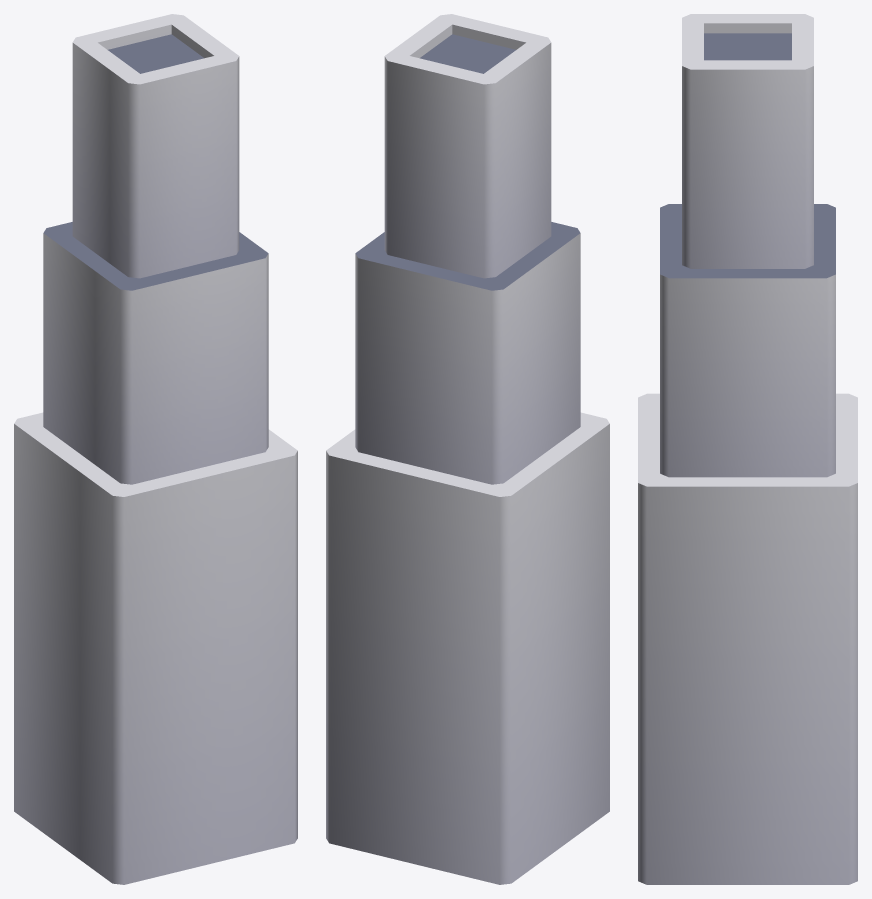
The model's file is low-detail-building-f.glb.
3 renders of one model, left to right at view 1: azimuth 30°, elevation 25°; view 2: azimuth 150°, elevation 25°; view 3: azimuth 270°, elevation 25°, orthographic. The views are drawn at different scales.
Visible parts, largest first — view 1: low-detail-building-f; view 2: low-detail-building-f; view 3: low-detail-building-f.
Boxes of the visible parts, x1=… form: low-detail-building-f: x1=14, y1=14, x2=297, y2=884; low-detail-building-f: x1=326, y1=14, x2=609, y2=884; low-detail-building-f: x1=638, y1=14, x2=857, y2=884.
Bounding box in the file's own units: 0.5 × 2 × 0.5.
Materials: 1 (1 with a texture image).
